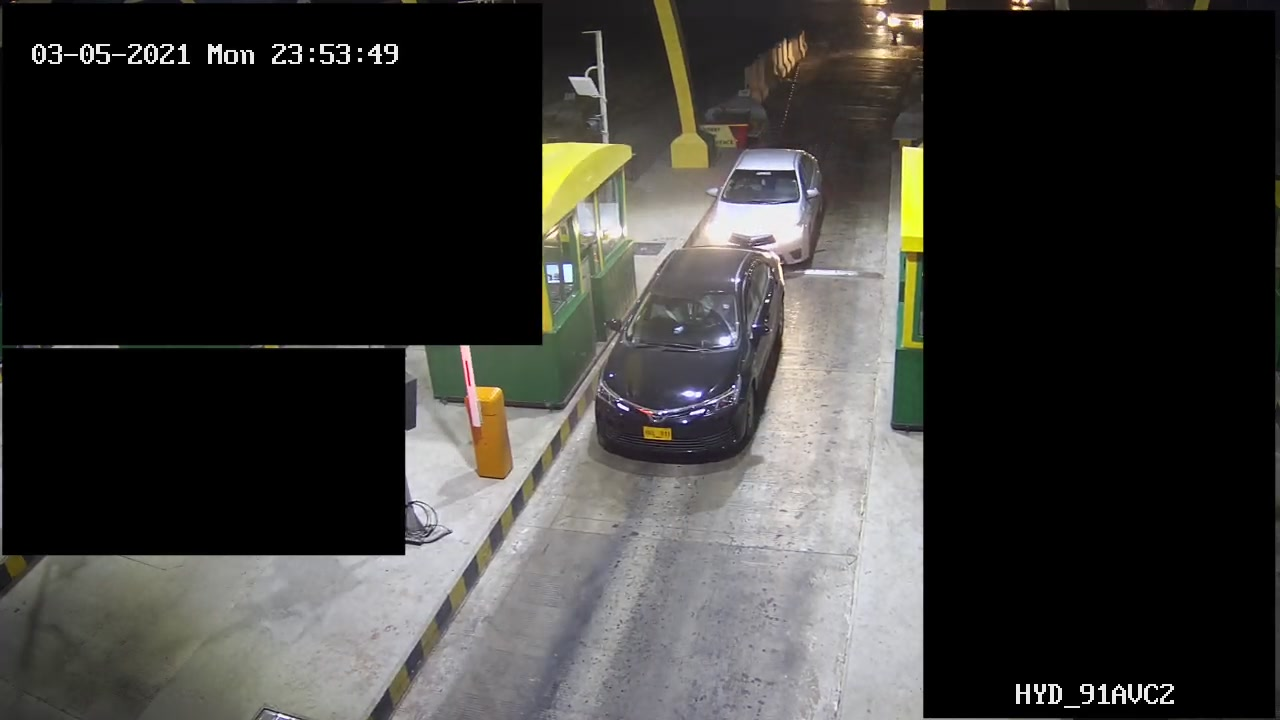F1: (596, 248, 790, 477), (703, 143, 833, 264)
